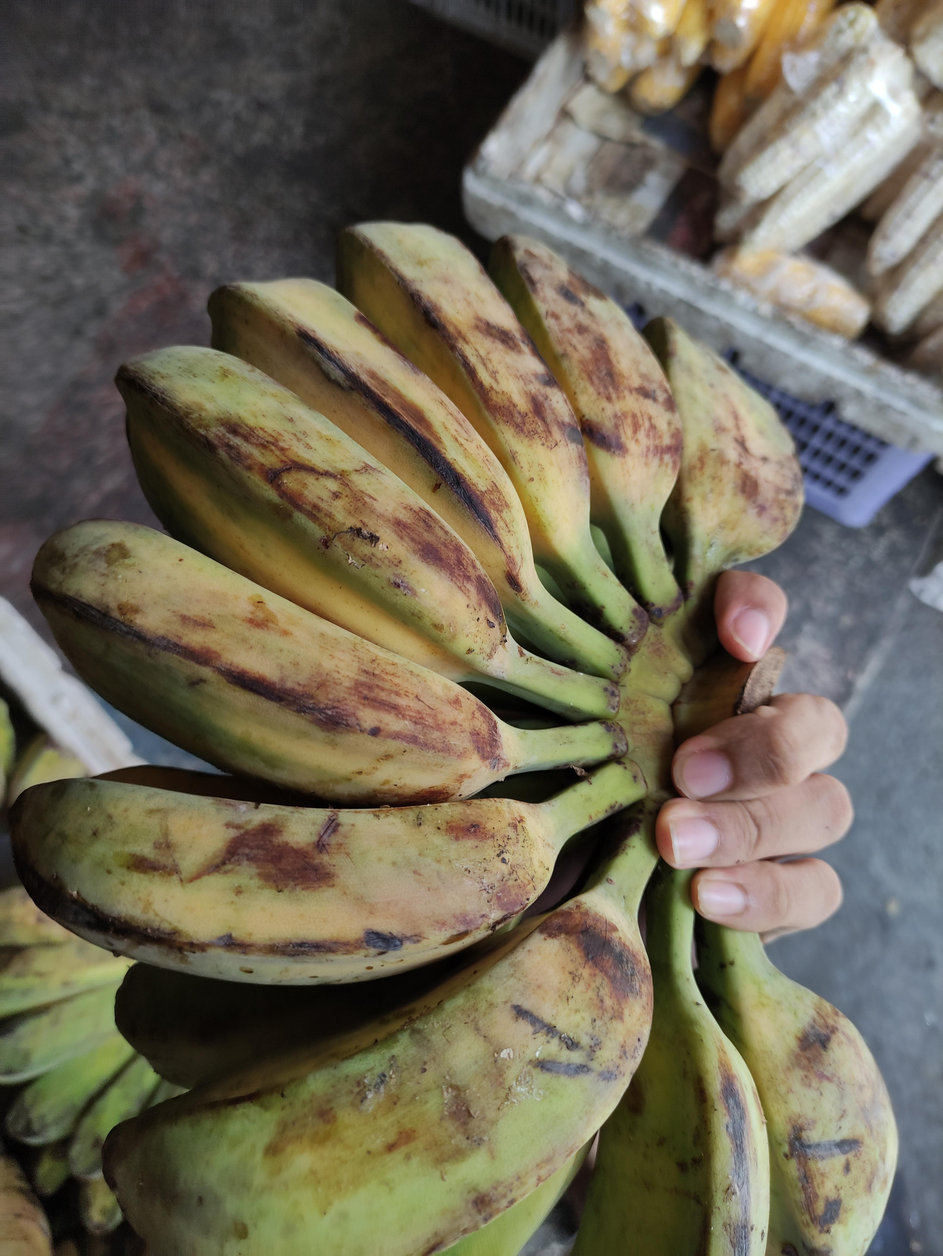underripe: (8, 220, 894, 1253)
